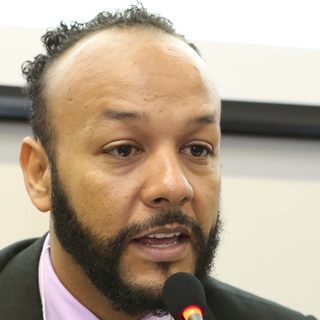eye: (95, 138, 147, 163), (173, 136, 220, 163)
